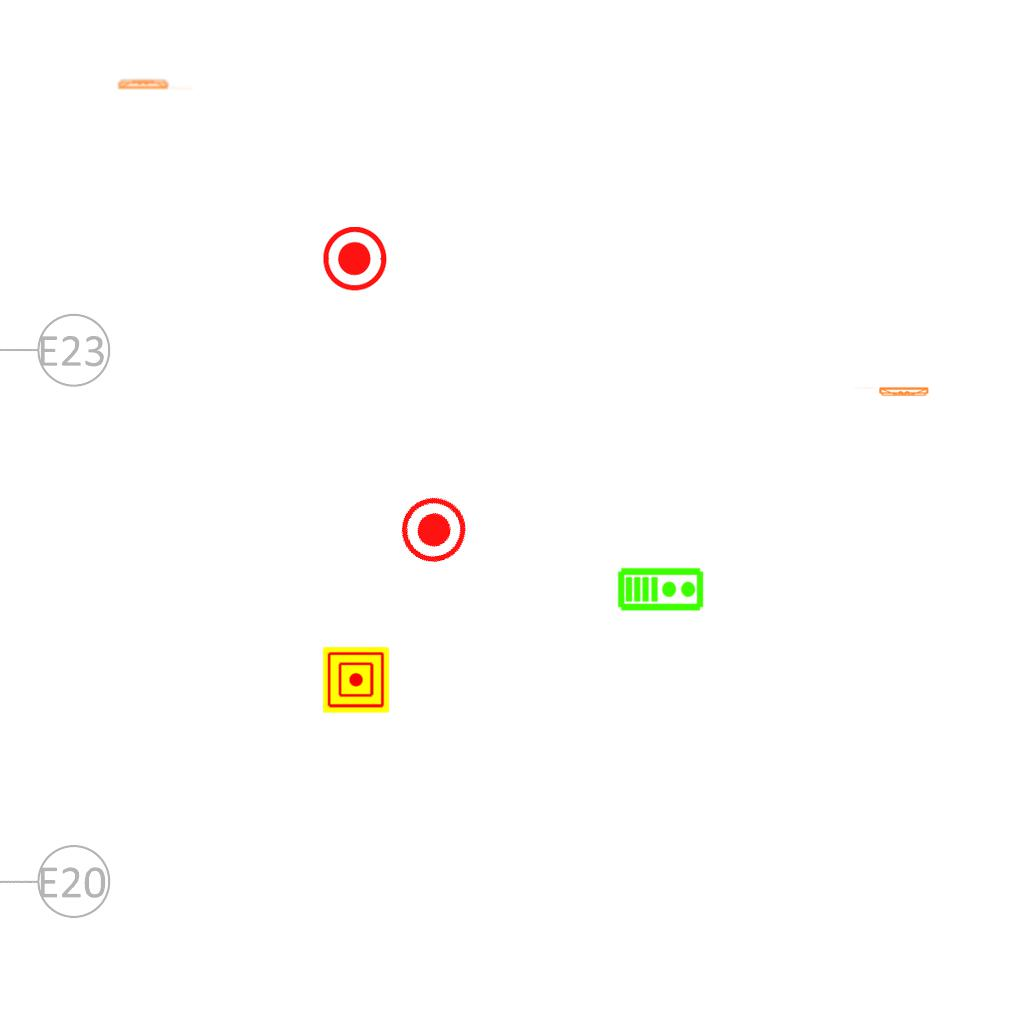Gegensprechanlage_mit_Video: (617, 565, 705, 612)
NAM-Nichtautomatischer_Melder: (323, 647, 389, 713)
Sicherheitsleuchte_Wandeinbau: (852, 386, 931, 398), (116, 78, 195, 90)
Taster: (390, 484, 480, 574), (321, 227, 387, 293)
